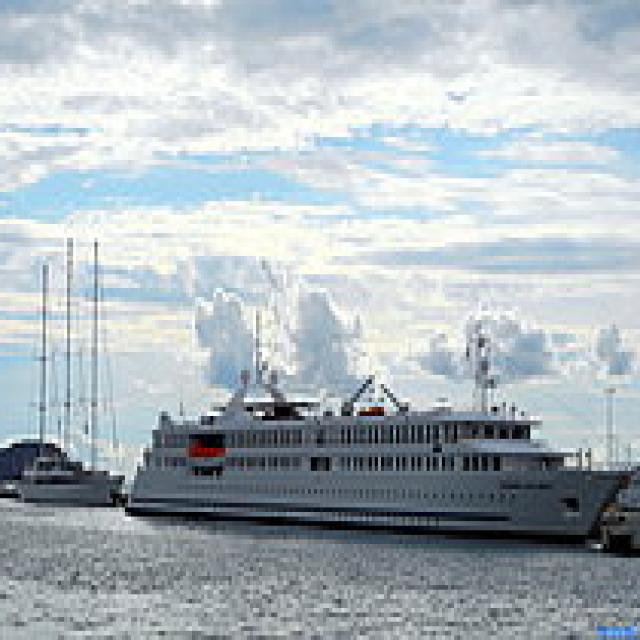Cruise: (128, 302, 640, 544)
